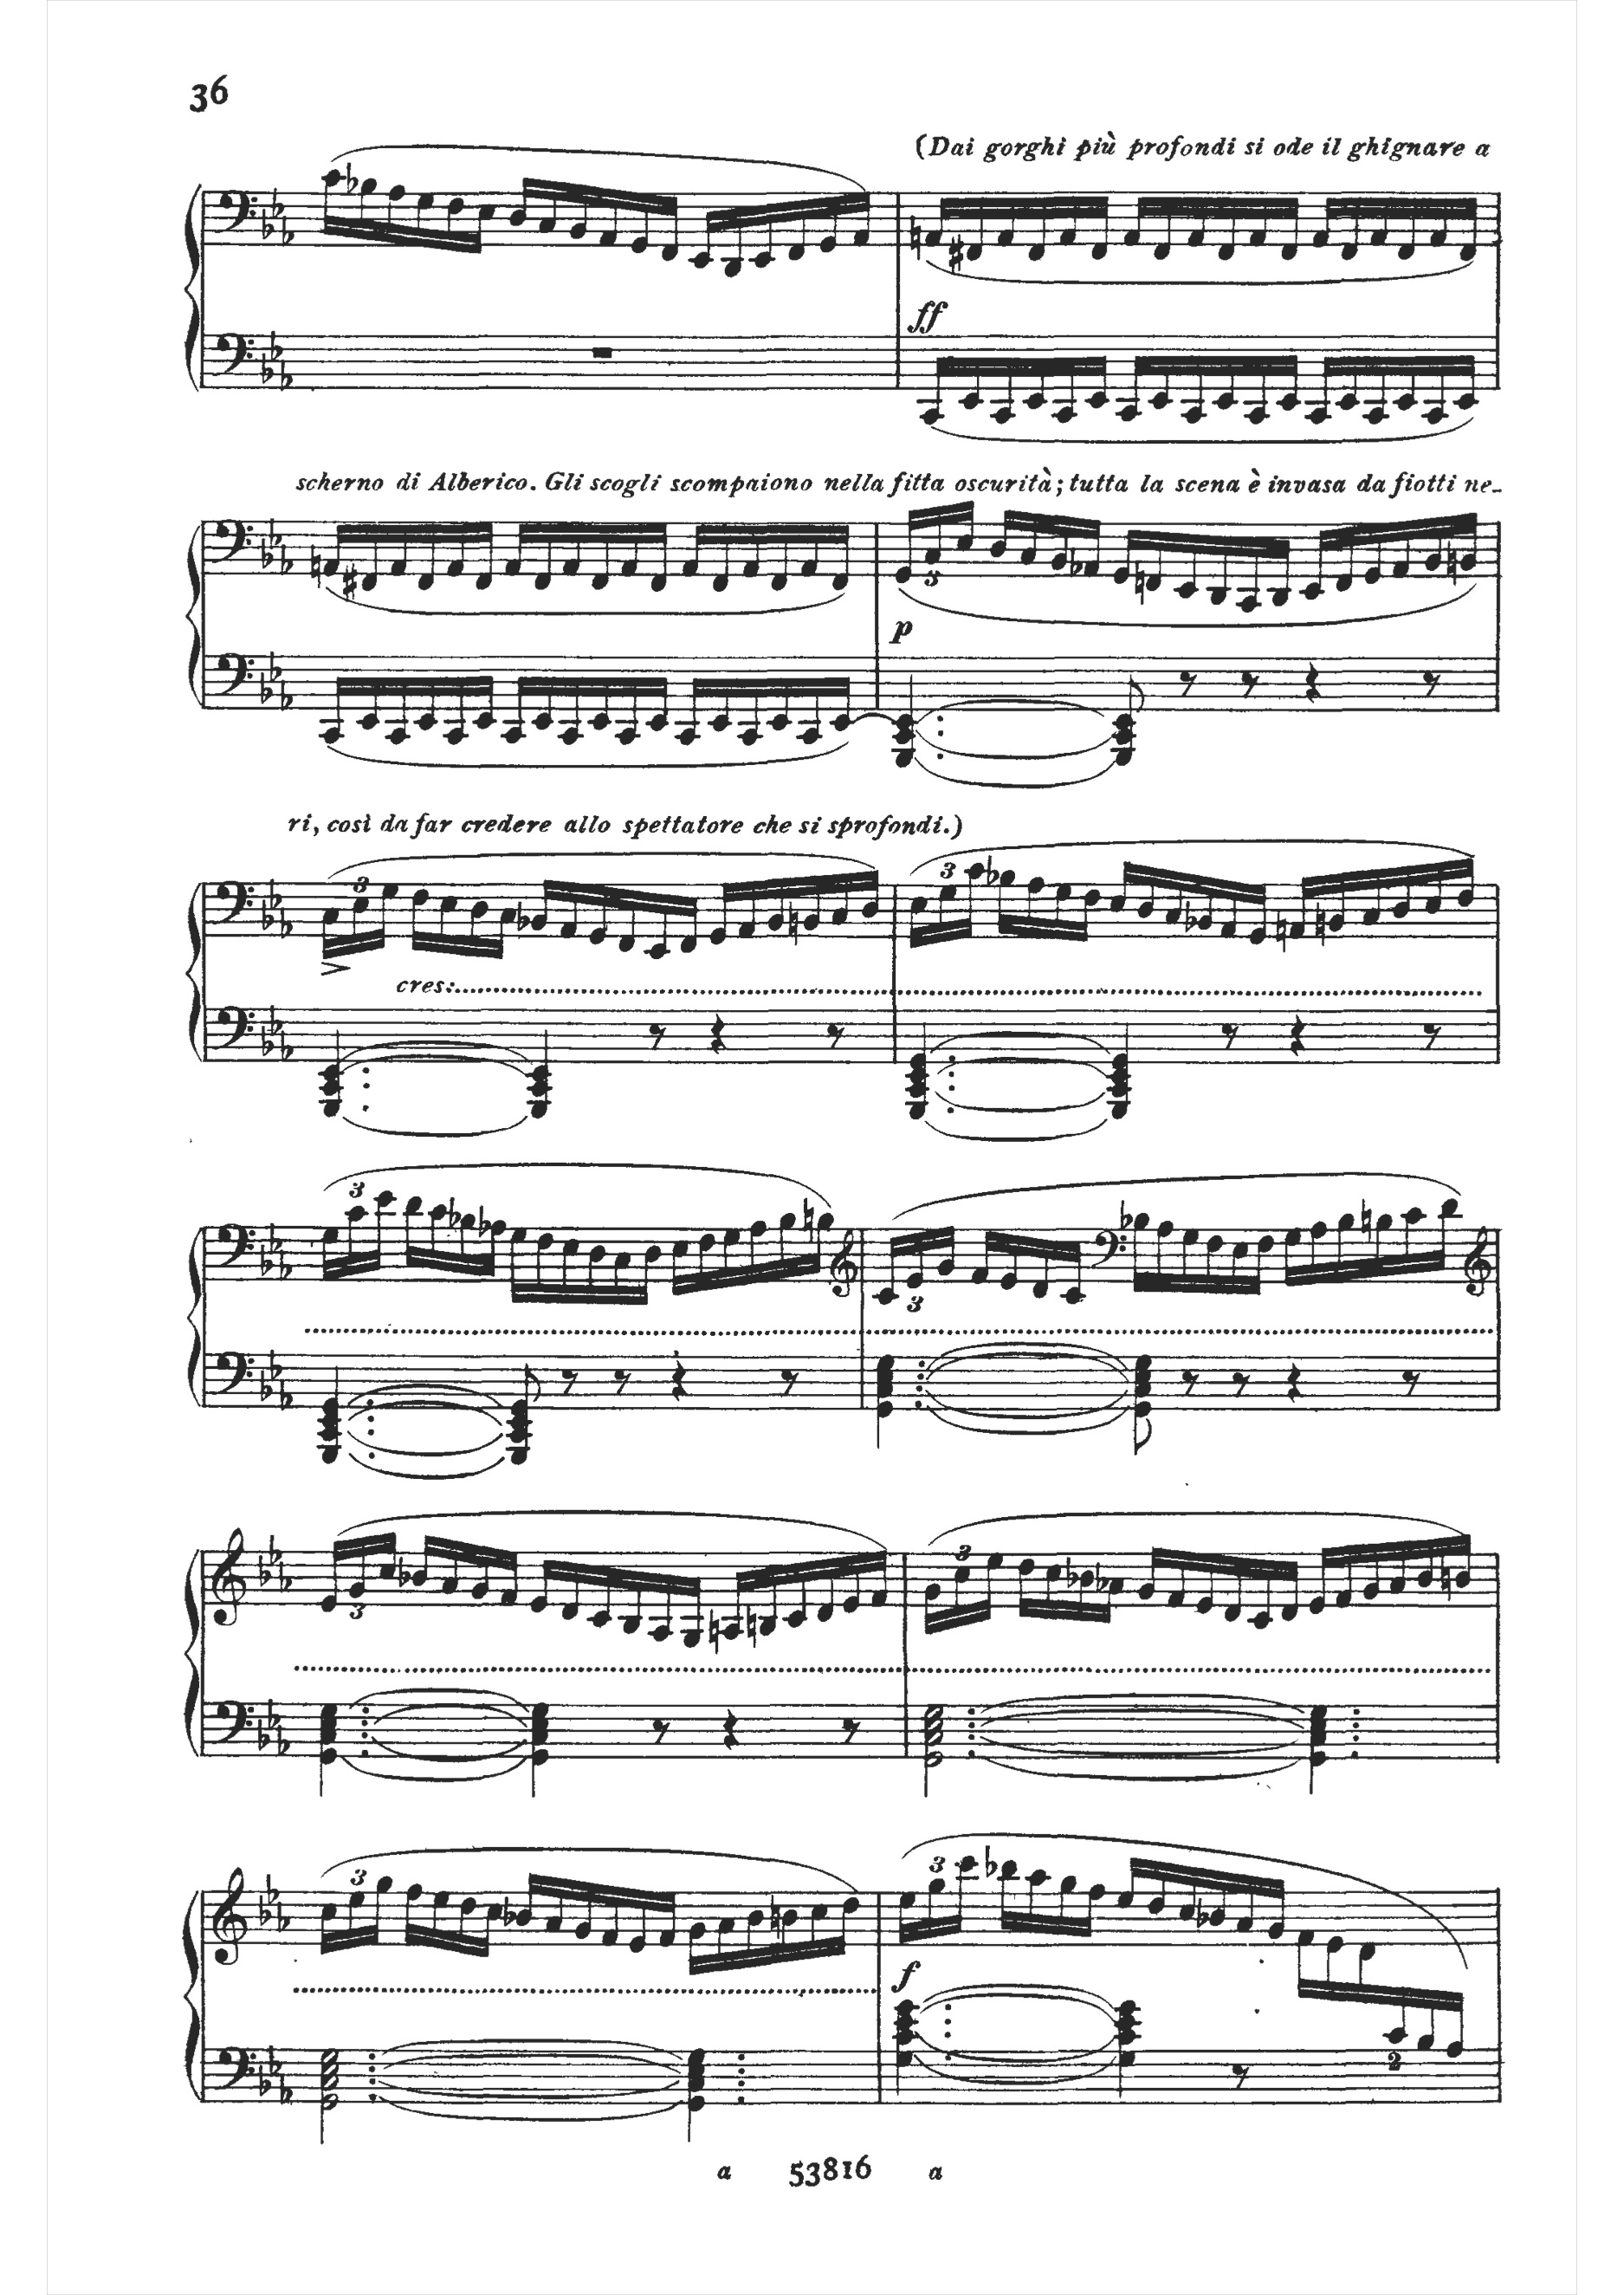bass_clef: (213, 1213, 257, 1283), (206, 513, 257, 571), (207, 1000, 257, 1060), (209, 650, 257, 708), (213, 1344, 257, 1404), (209, 1690, 253, 1750), (213, 880, 258, 937), (211, 329, 255, 387), (216, 2040, 257, 2102), (214, 186, 258, 237)
flat: (251, 1717, 276, 1761), (253, 1239, 274, 1281), (278, 357, 301, 395), (257, 350, 278, 390), (274, 541, 295, 582), (264, 873, 285, 914), (267, 1218, 288, 1258), (253, 1365, 274, 1406), (253, 1552, 274, 1590), (279, 1028, 297, 1074), (276, 1560, 299, 1596), (267, 330, 288, 367), (276, 1379, 297, 1416), (276, 680, 299, 713), (278, 1248, 297, 1286), (265, 1531, 285, 1569), (264, 1870, 285, 1905), (269, 186, 288, 223), (257, 671, 276, 708), (274, 1898, 294, 1935), (265, 513, 283, 554), (276, 1720, 294, 1761), (281, 214, 301, 250), (257, 536, 276, 571), (267, 1000, 285, 1039), (253, 2065, 272, 2100), (265, 2045, 286, 2077), (278, 905, 295, 942), (278, 2072, 295, 2109), (267, 1343, 283, 1381), (264, 1698, 283, 1729), (258, 1024, 276, 1058), (258, 207, 274, 244), (269, 650, 285, 685), (257, 900, 274, 931), (255, 1896, 272, 1928)
treble_clef: (206, 1527, 255, 1633), (204, 1861, 251, 1968)
